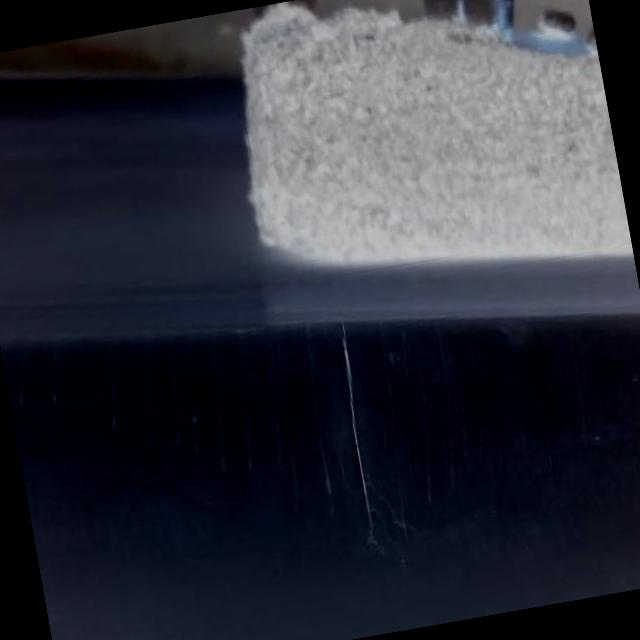crack: (332, 318, 382, 534)
